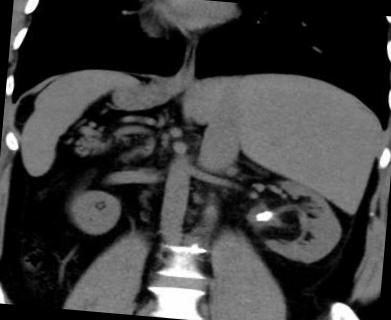Tas_Var: (250, 208, 274, 228)
